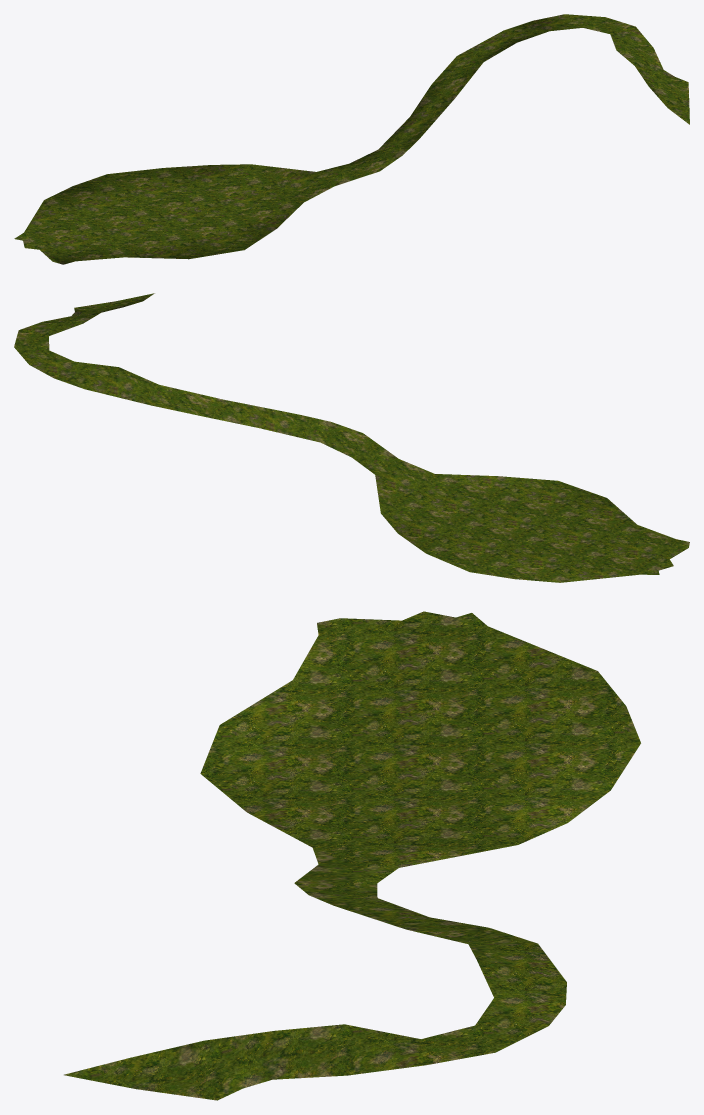
Rendered from OVERHILL_A_01_GROUND_CRUMBLE01.fbx.
3 views of the same model, one above another, from view 1: azimuth 30°, elevation 25°; view 2: azimuth 150°, elevation 25°; view 3: azimuth 270°, elevation 25° (orthographic). The views are drawn at different scales.
Visible parts, largest first — view 1: OVERHILL_A_01_GROUND_CRUMBLE01; view 2: OVERHILL_A_01_GROUND_CRUMBLE01; view 3: OVERHILL_A_01_GROUND_CRUMBLE01.
Boxes of the visible parts, x1=… form: OVERHILL_A_01_GROUND_CRUMBLE01: x1=14, y1=14, x2=689, y2=264; OVERHILL_A_01_GROUND_CRUMBLE01: x1=14, y1=293, x2=689, y2=582; OVERHILL_A_01_GROUND_CRUMBLE01: x1=64, y1=611, x2=640, y2=1100.
Size of the model in its own units: 216070 by 25056 by 88394.
Materials: 1 (1 with a texture image).
